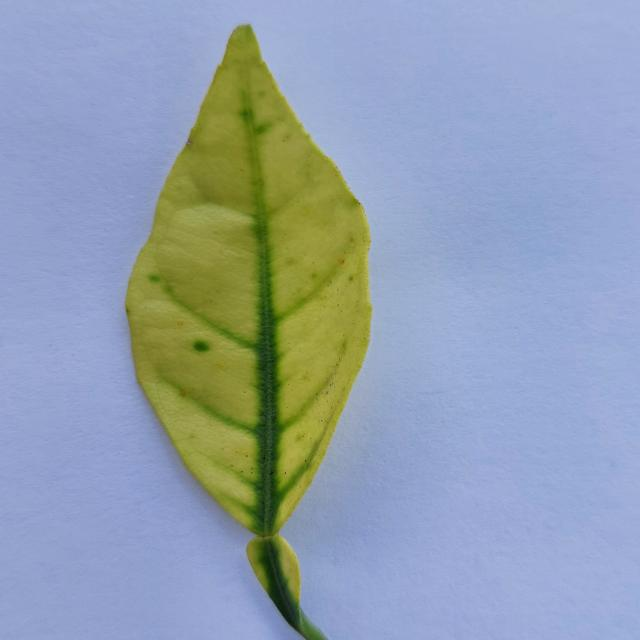greening: (127, 25, 371, 640)
